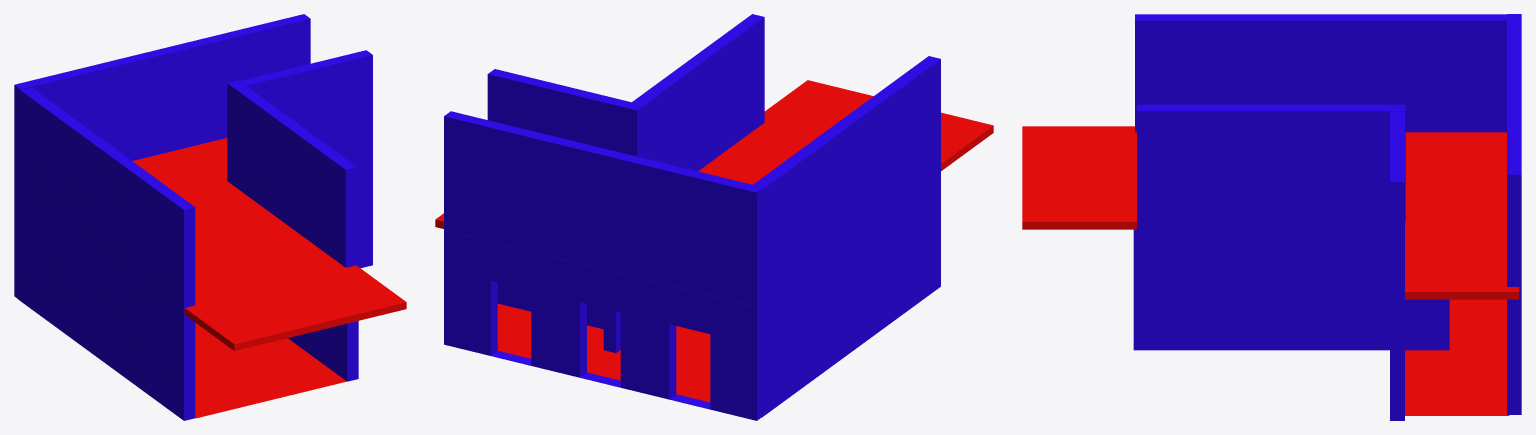
Rendered from ENV_KappaKartHouse.FBX.
The picture shows the model from 3 angles, left to right: view 1: azimuth 30°, elevation 25°; view 2: azimuth 150°, elevation 25°; view 3: azimuth 270°, elevation 25°; orthographic projection. The views are drawn at different scales.
Visible parts, largest first — view 1: walls, school; view 2: walls, school; view 3: walls, school.
Part boxes in pixels (x1=…): walls: x1=14, y1=14, x2=372, y2=420; school: x1=132, y1=138, x2=406, y2=418; walls: x1=444, y1=14, x2=940, y2=420; school: x1=435, y1=80, x2=993, y2=402; walls: x1=1133, y1=14, x2=1521, y2=420; school: x1=1022, y1=126, x2=1519, y2=415.
Size of the model in its own units: 78.93 by 99.82 by 52.98.
